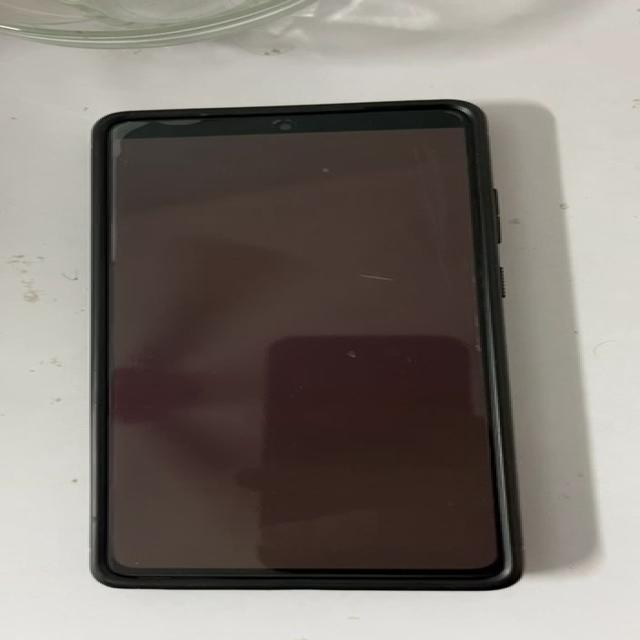Scratches: (345, 267, 405, 294), (339, 337, 359, 365), (315, 162, 340, 178)
